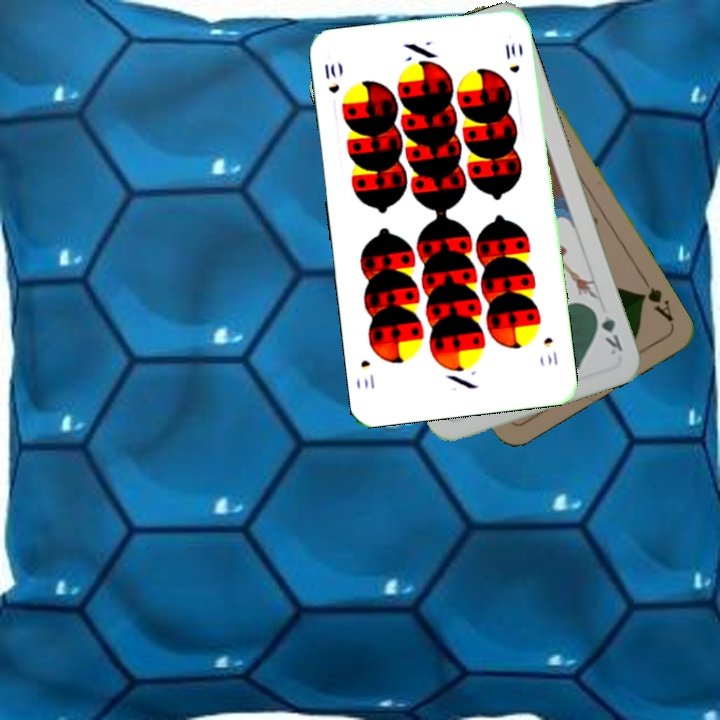GA: (635, 273, 676, 324)
GK: (589, 304, 626, 358)
S10: (320, 59, 342, 96), (539, 333, 561, 368)
